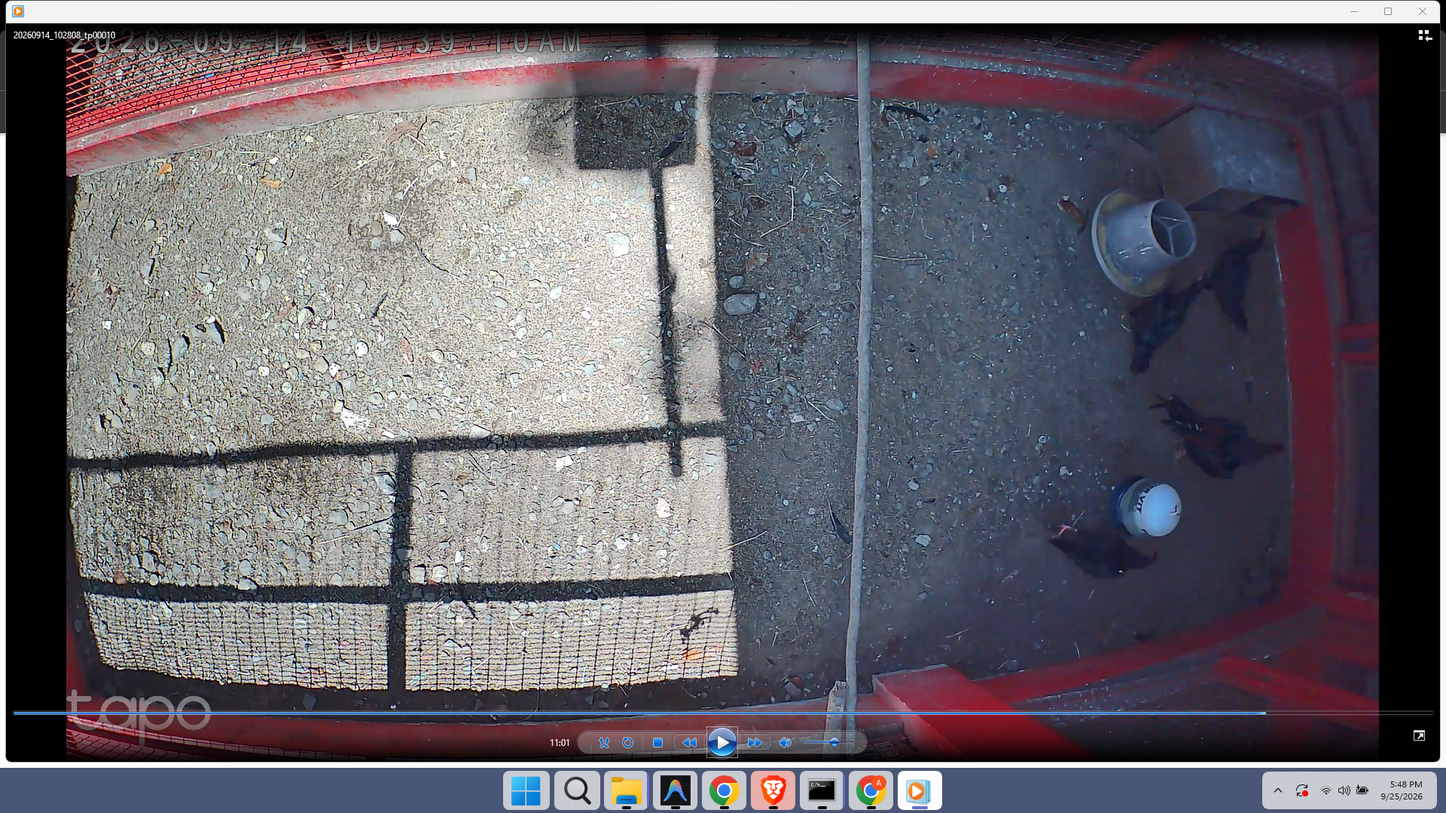Chicken: (1120, 269, 1211, 377), (1202, 220, 1267, 334), (1047, 522, 1165, 583)
Drinker: (1108, 472, 1183, 537)
Feeder: (1089, 186, 1199, 297)
Rooster: (1141, 387, 1285, 480)
